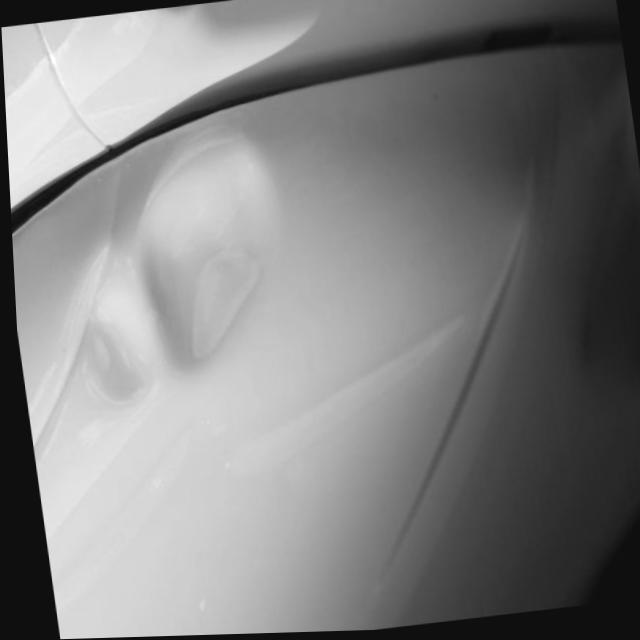Dent: (127, 126, 288, 385), (59, 243, 167, 408)
